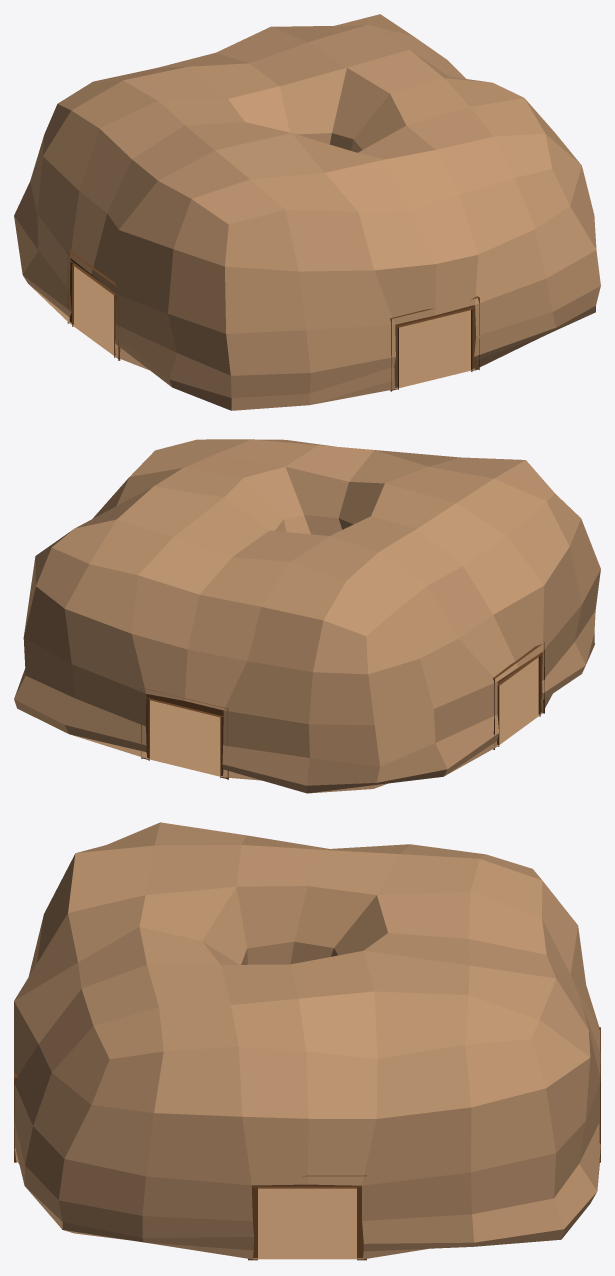
Rendered from SM_Mediumcave1.fbx.
3 renders of one model, top to bottom at view 1: azimuth 30°, elevation 25°; view 2: azimuth 150°, elevation 25°; view 3: azimuth 270°, elevation 25°, orthographic. The views are drawn at different scales.
Visible parts, largest first — view 1: Medium Room, Medium Room.002, Medium Room.001, Support -y.001, Support -x.001; view 2: Medium Room, Medium Room.002, Medium Room.001, Support y.001, Support -x.001; view 3: Medium Room, Medium Room.002, Medium Room.001, Support x.001.
Part boxes in pixels (x1,y1,x2,y2): Medium Room: [14, 37, 600, 410]; Medium Room.002: [58, 14, 552, 224]; Medium Room.001: [30, 266, 548, 404]; Support -y.001: [390, 296, 479, 391]; Support -x.001: [67, 250, 120, 360]; Medium Room: [14, 478, 600, 793]; Medium Room.002: [52, 439, 554, 635]; Medium Room.001: [71, 657, 552, 793]; Support y.001: [141, 688, 228, 779]; Support -x.001: [493, 642, 544, 749]; Medium Room: [14, 854, 600, 1251]; Medium Room.002: [68, 822, 555, 1059]; Medium Room.001: [15, 1153, 600, 1259]; Support x.001: [248, 1175, 366, 1260].
Bounding box in the file's own units: 2000 × 838 × 2000.
